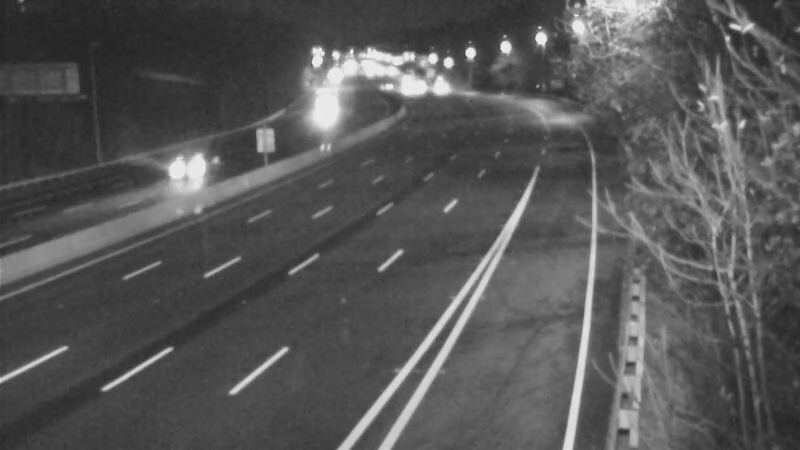vehicle: (150, 128, 230, 208), (418, 61, 468, 111)
